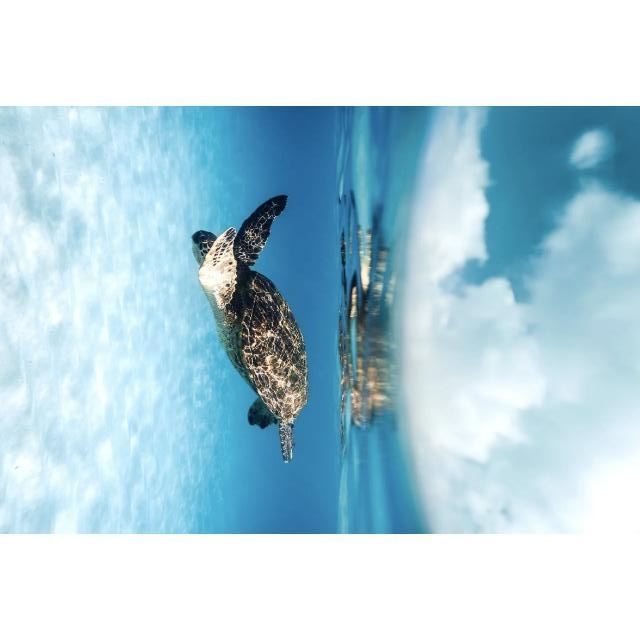turtle: (189, 192, 312, 464)
